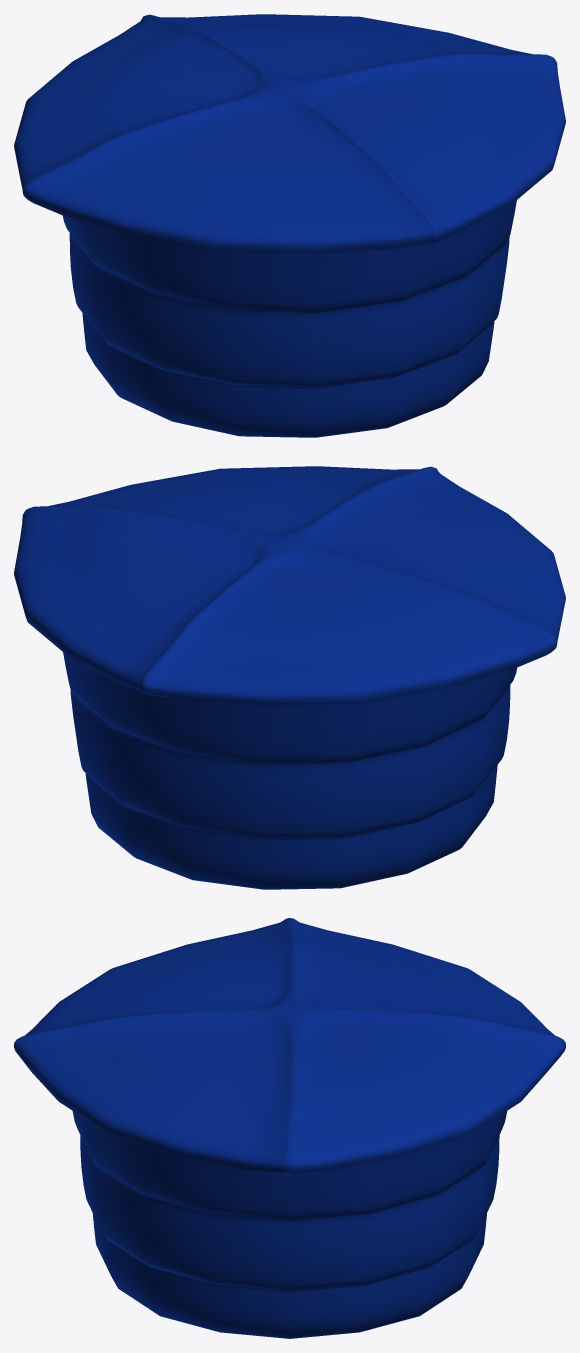
The model's file is Caixa_de_agua 1.fbx.
The picture shows the model from 3 angles, top to bottom: view 1: azimuth 30°, elevation 25°; view 2: azimuth 150°, elevation 25°; view 3: azimuth 270°, elevation 25°; orthographic projection. The views are drawn at different scales.
Visible parts, largest first — view 1: Caixa_de_agua; view 2: Caixa_de_agua; view 3: Caixa_de_agua.
Boxes of the visible parts, x1=… form: Caixa_de_agua: x1=14, y1=14, x2=565, y2=437; Caixa_de_agua: x1=14, y1=466, x2=565, y2=889; Caixa_de_agua: x1=14, y1=918, x2=565, y2=1338.
Bounding box in the file's own units: 119 × 60.73 × 113.
